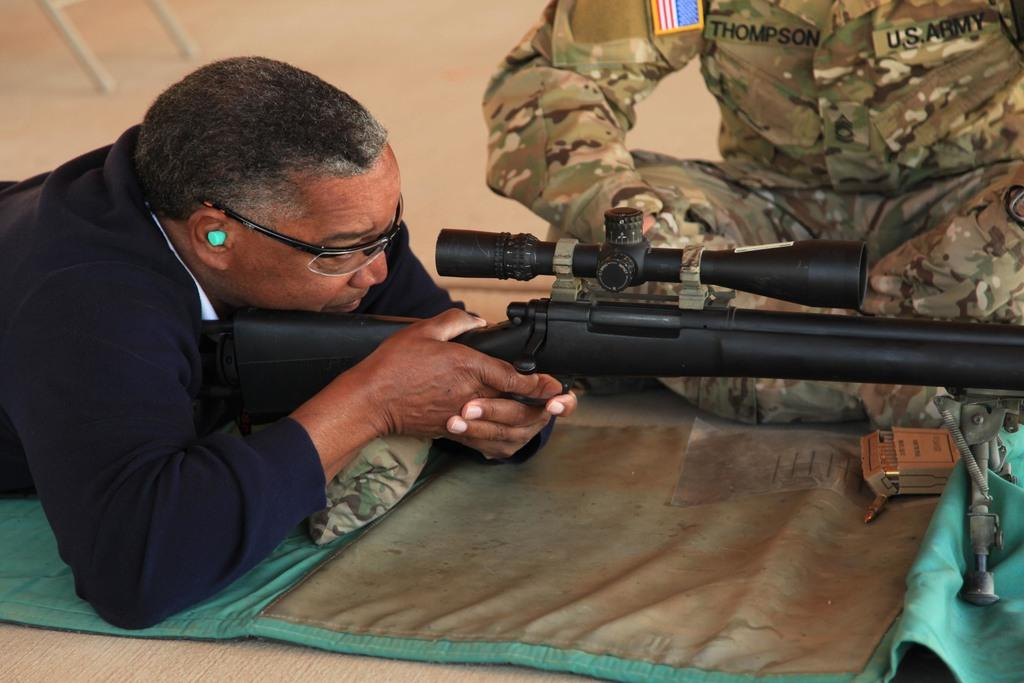Shotgun: (198, 206, 1023, 452)
